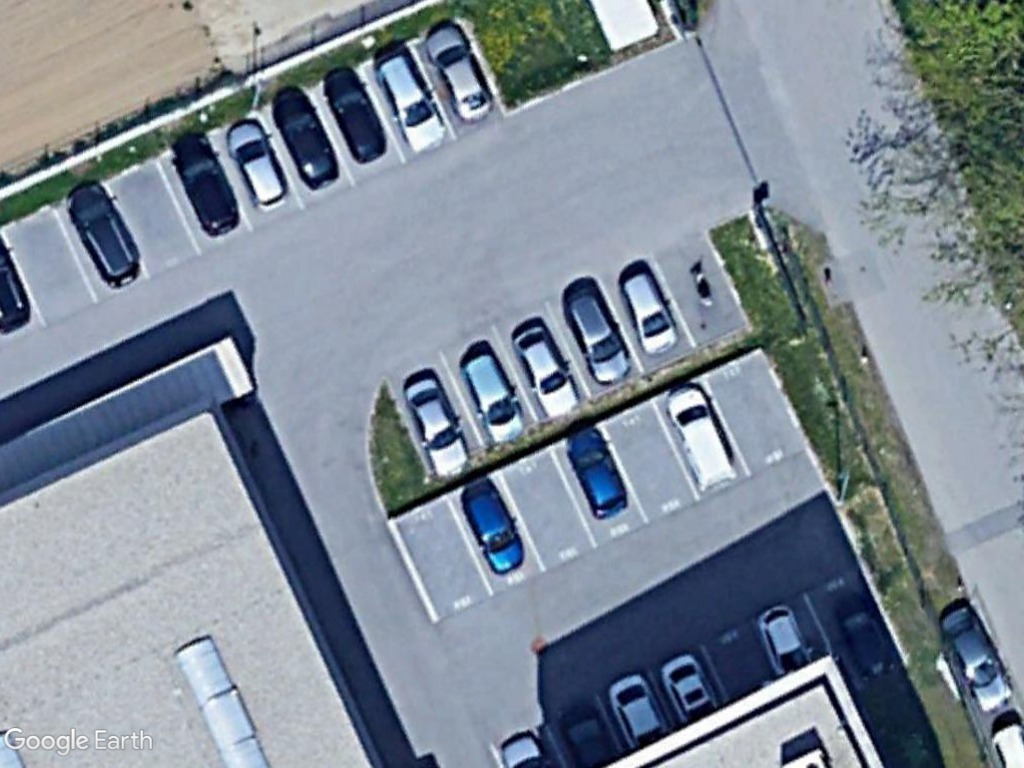car: (934, 604, 1016, 718), (63, 183, 145, 291), (400, 375, 477, 484), (369, 48, 449, 152), (168, 132, 245, 240), (420, 24, 496, 127), (268, 88, 343, 192), (456, 479, 532, 579), (509, 320, 580, 423), (320, 66, 389, 165), (562, 288, 630, 387), (561, 424, 630, 520), (456, 352, 525, 448), (224, 118, 291, 212), (620, 270, 680, 359)
van: (661, 383, 741, 495)
